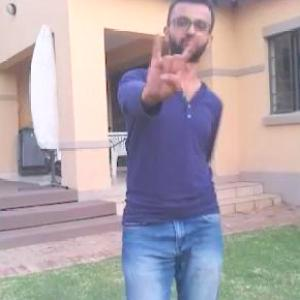takeoff-hand: (140, 31, 204, 105)
